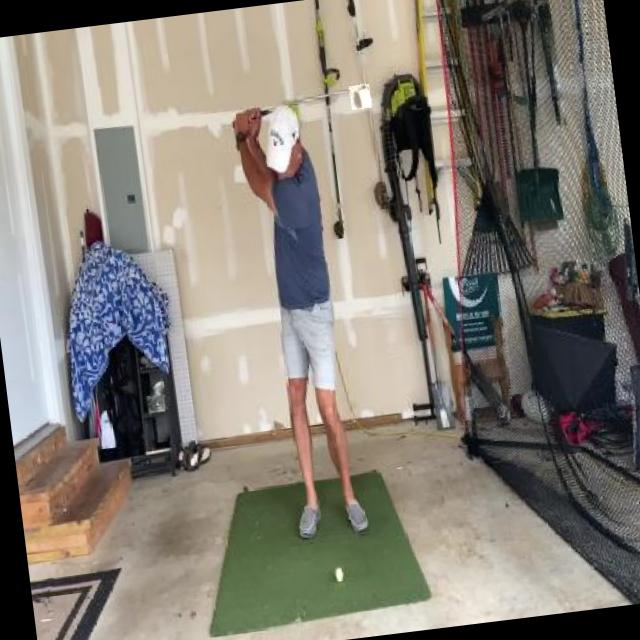club head: (348, 84, 372, 110)
